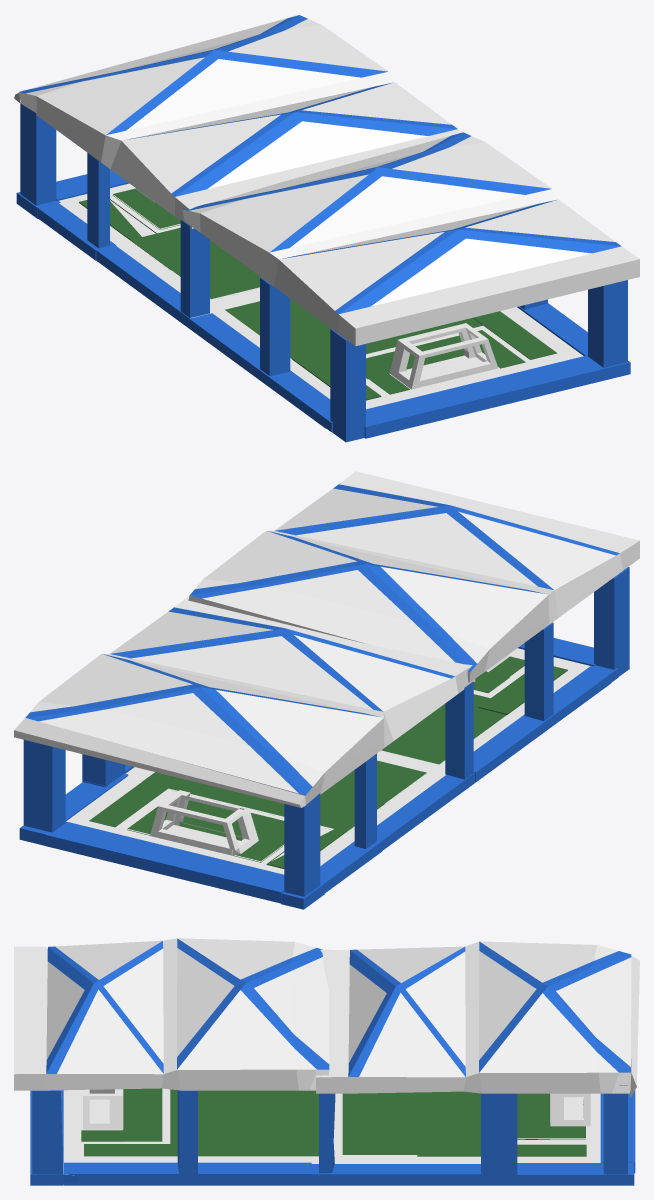
The model's file is Playground.glb.
3 views of the same model, one above another, from view 1: azimuth 30°, elevation 25°; view 2: azimuth 150°, elevation 25°; view 3: azimuth 270°, elevation 25° (orthographic). The views are drawn at different scales.
Parts seen in each view (by area): view 1: Cube.142; view 2: Cube.142; view 3: Cube.142.
Part boxes in pixels (x1,y1,x2,y2): Cube.142: (14,14,639,442); Cube.142: (14,471,639,909); Cube.142: (14,938,639,1185).
Bounding box in the file's own units: 2.19 × 1.12 × 4.4.
